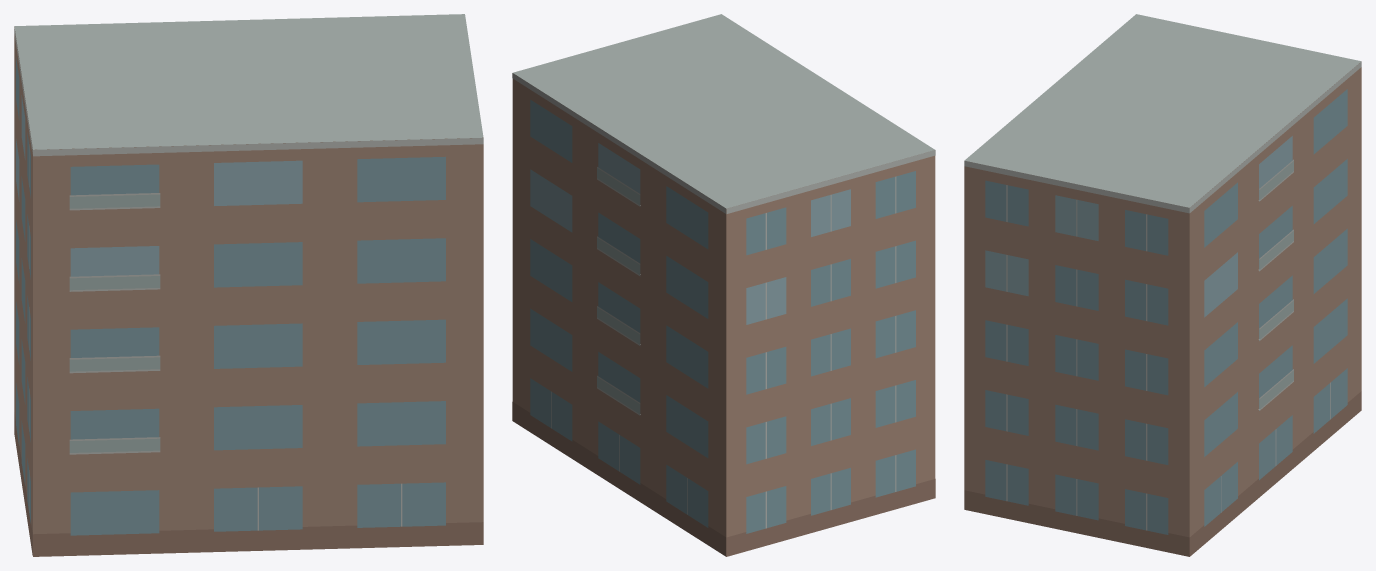
File: survey-upis-32842950.glb
The picture shows the model from 3 angles, left to right: view 1: azimuth 30°, elevation 25°; view 2: azimuth 150°, elevation 25°; view 3: azimuth 270°, elevation 25°; orthographic projection. The views are drawn at different scales.
Parts seen in each view (by area): view 1: survey-upis-32842950.tmp; view 2: survey-upis-32842950.tmp; view 3: survey-upis-32842950.tmp.
Part boxes in pixels (bbox=[...]): survey-upis-32842950.tmp: bbox=[14, 14, 483, 556]; survey-upis-32842950.tmp: bbox=[512, 14, 935, 556]; survey-upis-32842950.tmp: bbox=[964, 14, 1361, 556].
Size of the model in its own units: 18.17 by 15.25 by 15.74.
